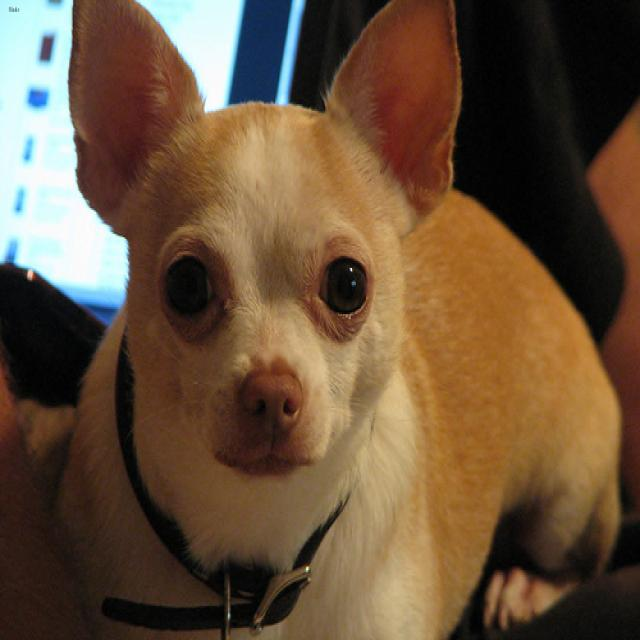dog-chihuahua: (40, 2, 632, 637)
